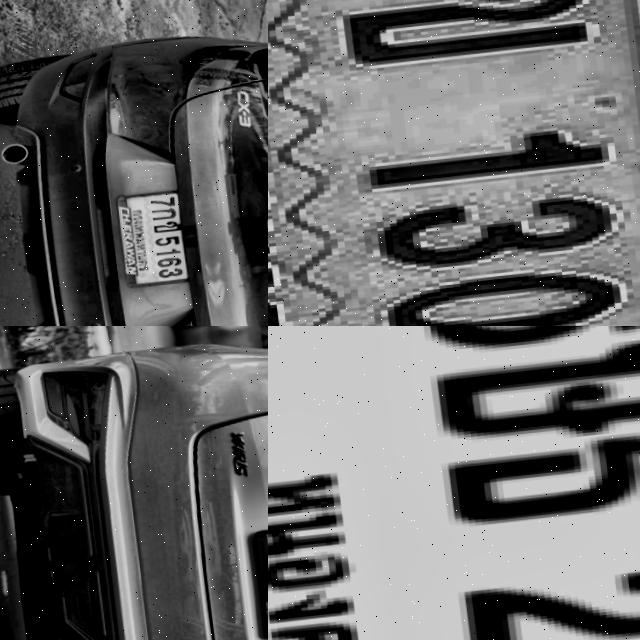license-plate: (268, 0, 640, 326), (268, 326, 640, 640), (97, 189, 186, 293), (236, 525, 268, 640)
